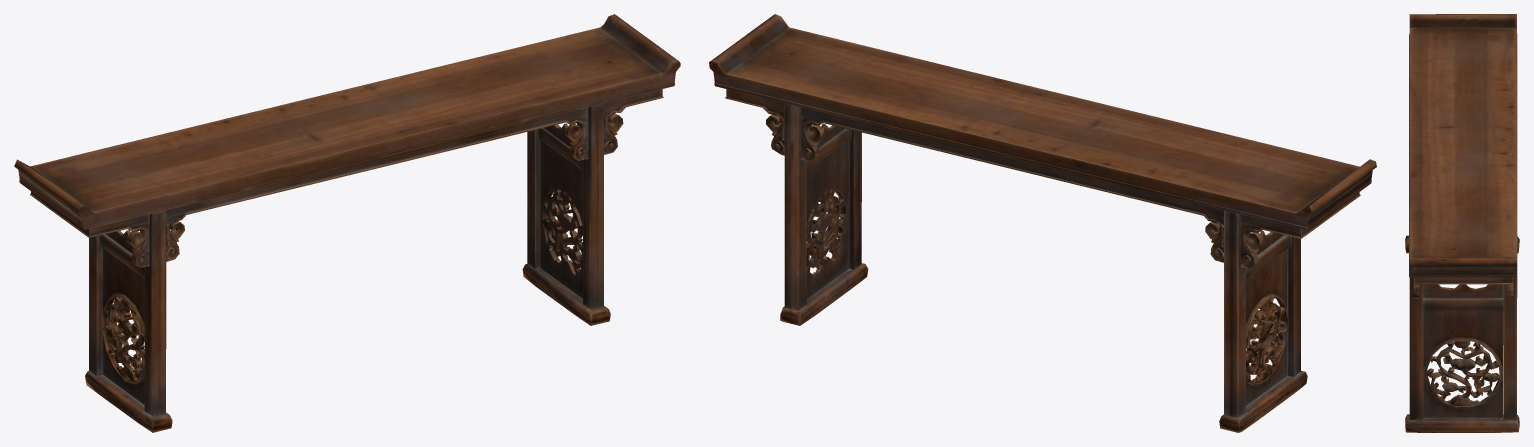
File: chinese_console_table.glb
The picture shows the model from 3 angles, left to right: view 1: azimuth 30°, elevation 25°; view 2: azimuth 150°, elevation 25°; view 3: azimuth 270°, elevation 25°; orthographic projection. The views are drawn at different scales.
Parts seen in each view (by area): view 1: chinese_console_table; view 2: chinese_console_table; view 3: chinese_console_table.
Part boxes in pixels (x1,y1,x2,y2): chinese_console_table: (14,14,680,432); chinese_console_table: (709,14,1376,432); chinese_console_table: (1405,14,1519,432).
Size of the model in its own units: 1.72 by 0.66 by 0.337.
1 material, 1 textured.
